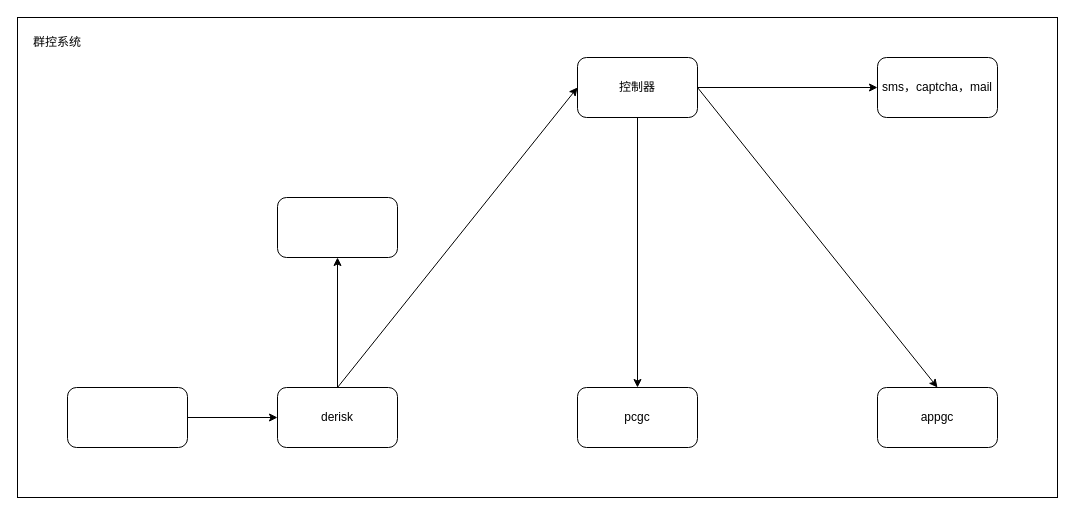
Image size: 1075x515. Some labels were removed from this diagram. Each missing label, with the box of its shape:
grafana: (276, 196, 398, 258)
spiderman: (66, 386, 188, 448)
